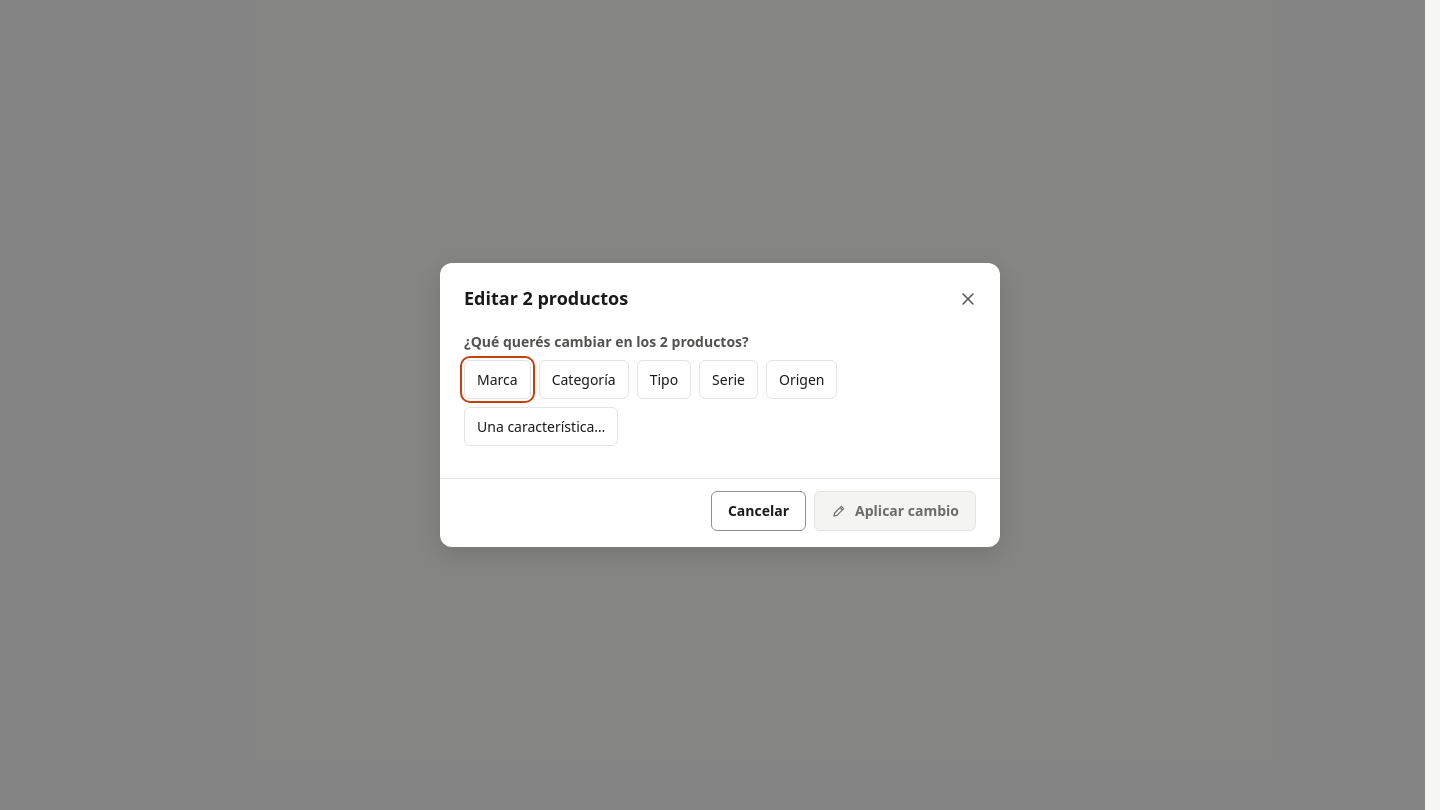
Test: ModalEdicionMasiva · opciones por categoría › sin categoría común (productos de varias), el Tipo cae a texto libre
This screenshot has width=1440, height=810.
Click the button "Tipo" at (664, 380), box top-left (637, 360), bottom-right (691, 399)
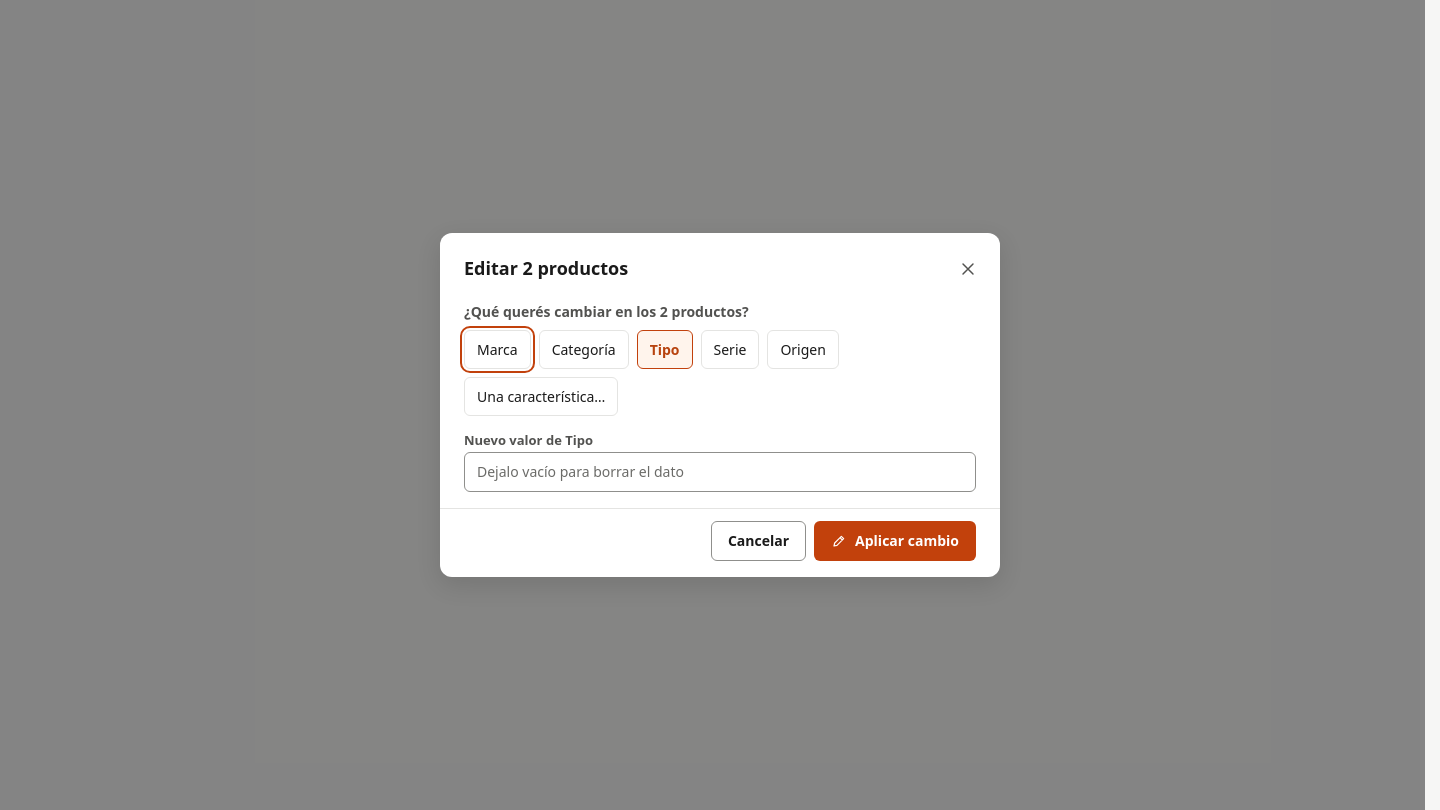
Result: the field with placeholder "Dejalo vacío para borrar el dato" is shown at top-left (464, 452), bottom-right (976, 492)
